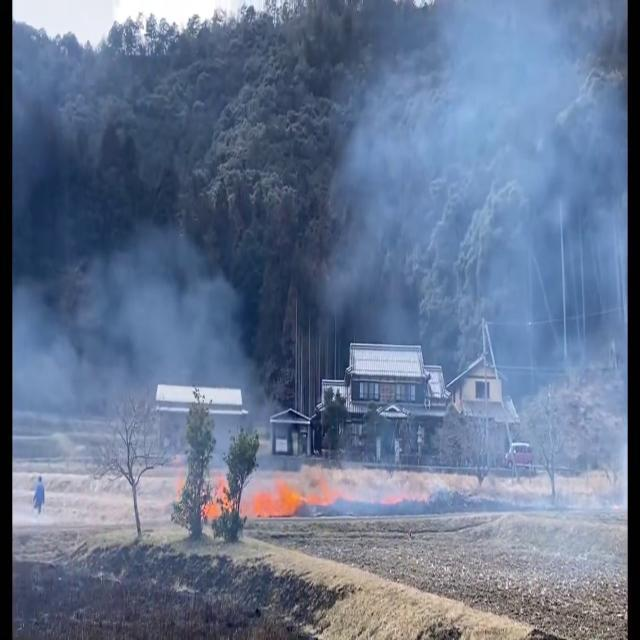Fire: (201, 466, 234, 525)
Smoke: (289, 1, 627, 608), (13, 19, 279, 470)
